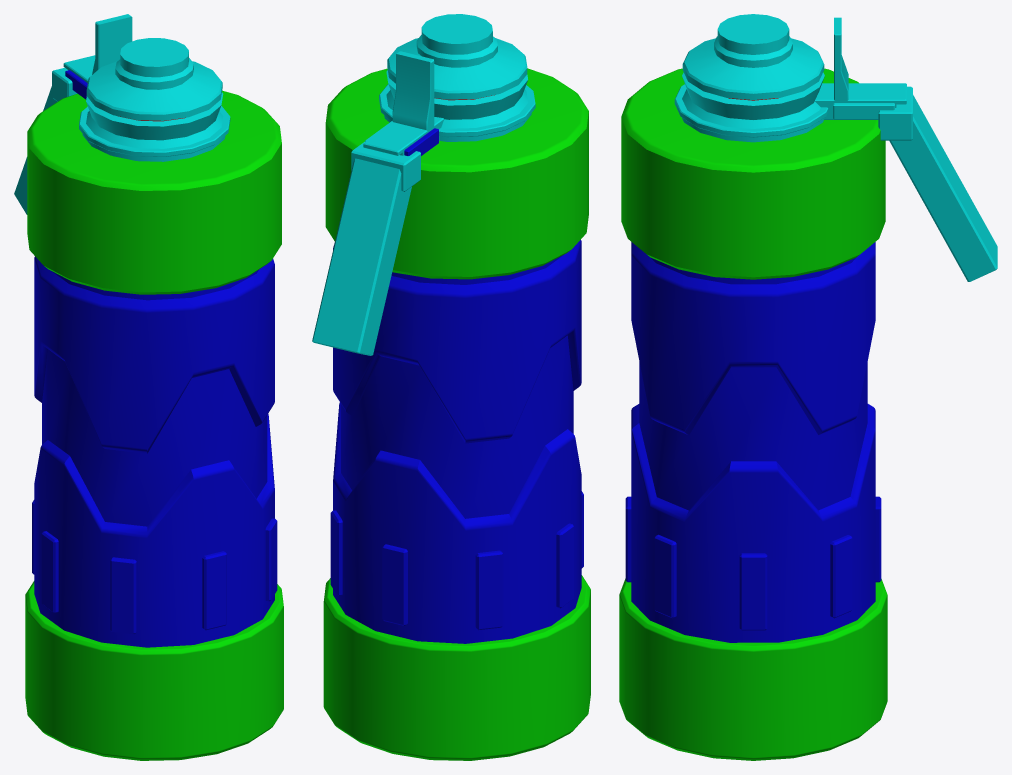
File: STATIC_Grenade_Special.fbx
The picture shows the model from 3 angles, left to right: view 1: azimuth 30°, elevation 25°; view 2: azimuth 150°, elevation 25°; view 3: azimuth 270°, elevation 25°; orthographic projection. The views are drawn at different scales.
Parts seen in each view (by area): view 1: STATIC_Grenade_Special; view 2: STATIC_Grenade_Special; view 3: STATIC_Grenade_Special.
Boxes of the visible parts, left/top/right/bottom form: STATIC_Grenade_Special: left=14, top=14, right=283, bottom=760; STATIC_Grenade_Special: left=312, top=14, right=590, bottom=760; STATIC_Grenade_Special: left=619, top=14, right=997, bottom=760.
Size of the model in its own units: 1.65 by 4.61 by 2.32.
